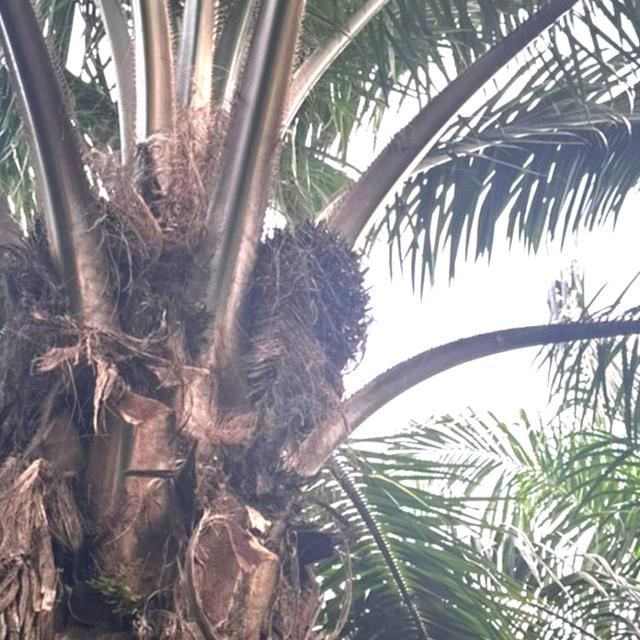unripe: (248, 211, 381, 384)
